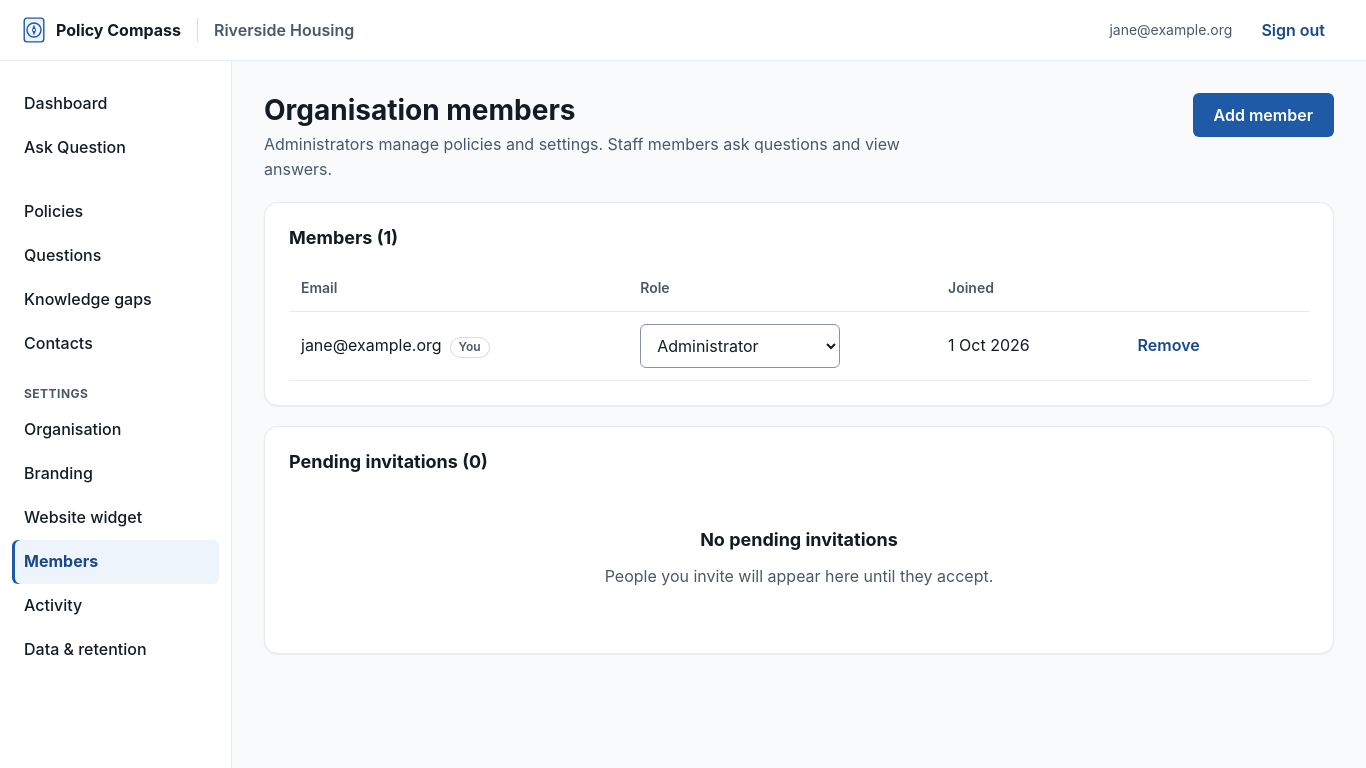
Members page › explains why the last administrator can't be removed
Step 1. Click the button with aria-label "Remove jane@example.org" → (1169, 346), box [1117,324,1221,368]
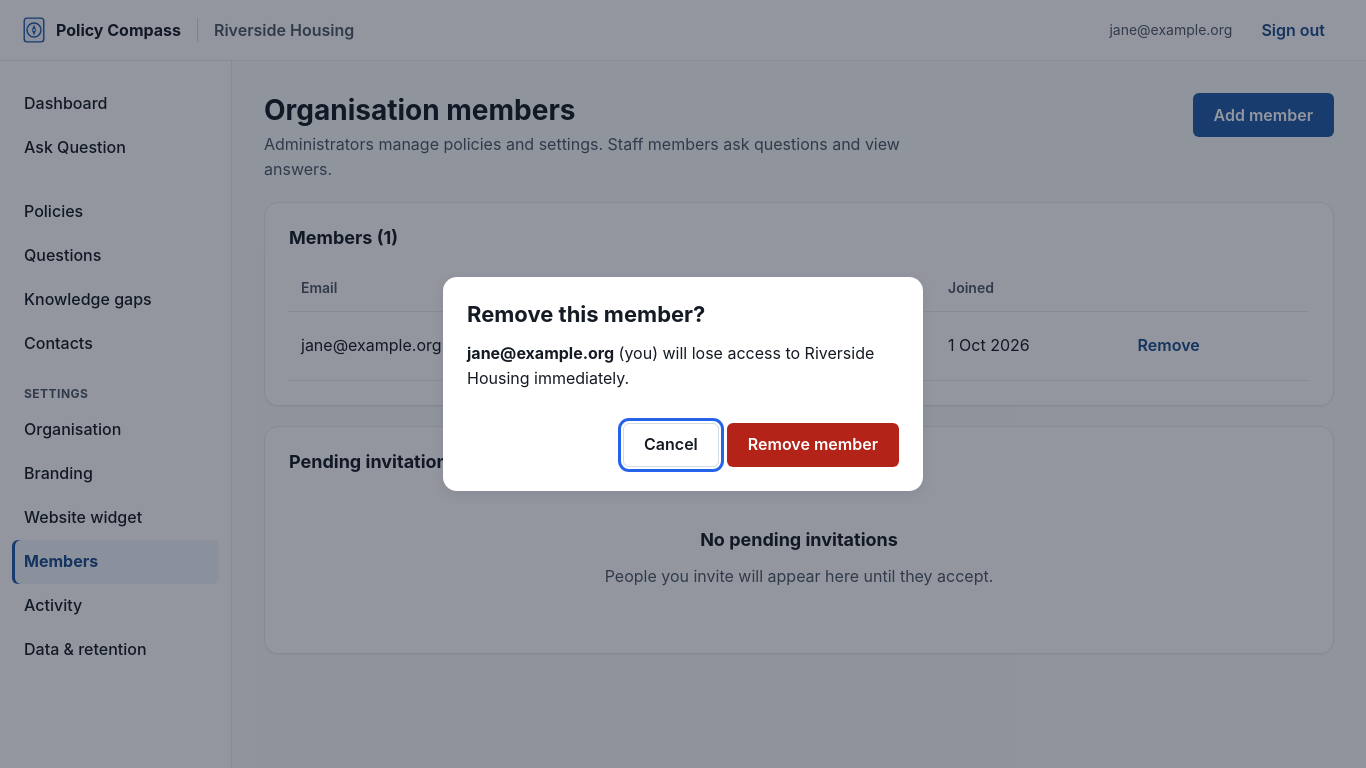
Step 2. Click the button "Remove member" → (813, 444), box [727,422,899,466]
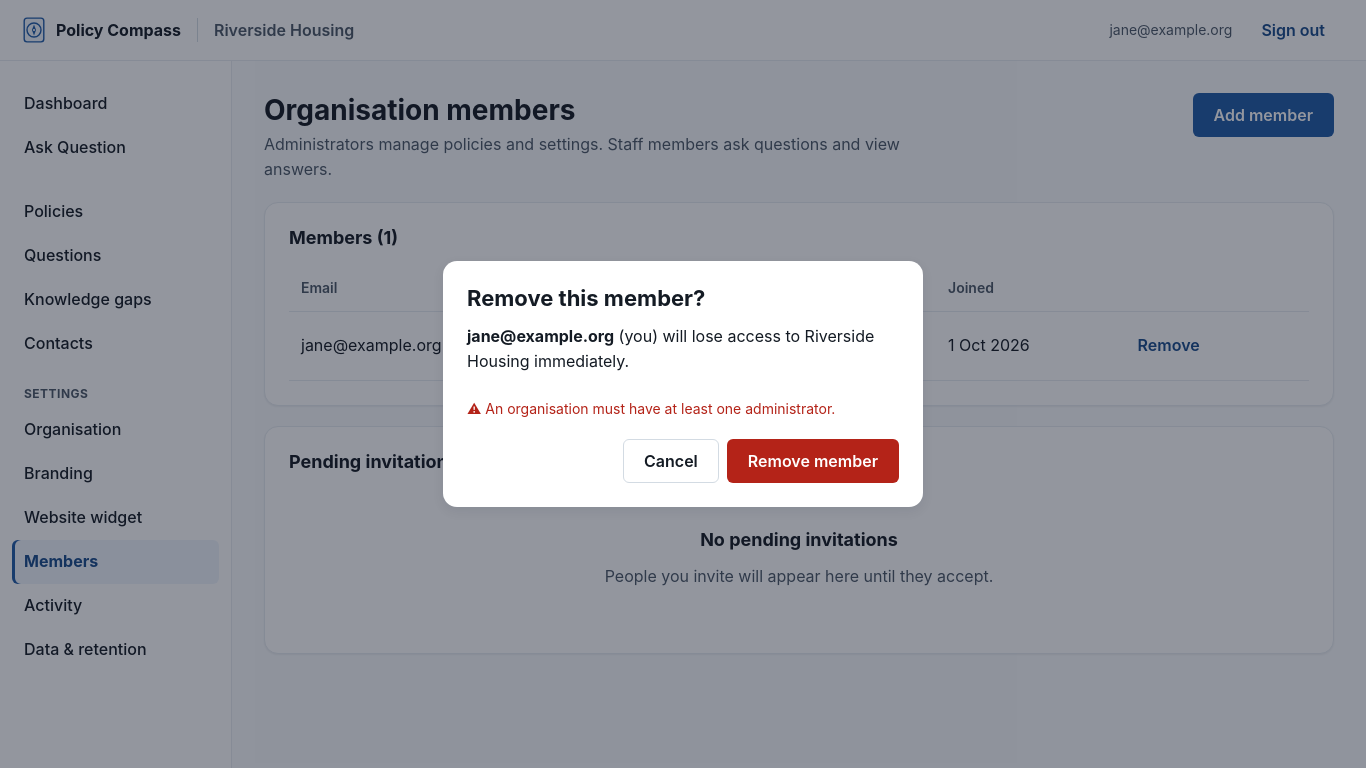
Check: the message shows "at least one administrator", box [485,400,835,417]
